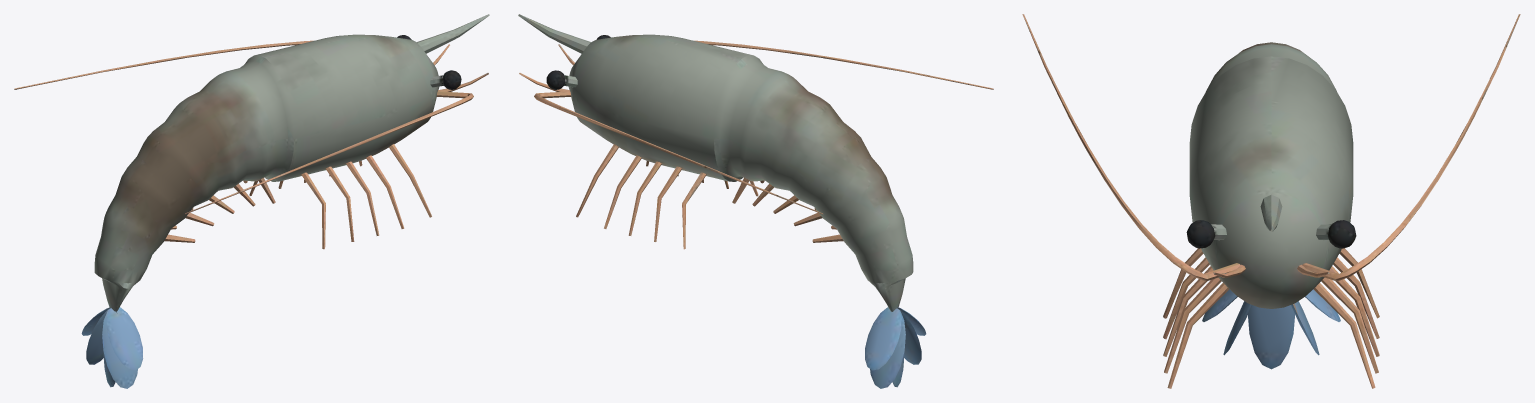
Rendered from shrimp.glb.
3 renders of one model, left to right at view 1: azimuth 30°, elevation 25°; view 2: azimuth 150°, elevation 25°; view 3: azimuth 270°, elevation 25°, orthographic. The views are drawn at different scales.
Visible parts, largest first — view 1: shrimp; view 2: shrimp; view 3: shrimp.
Boxes of the visible parts, x1,y1,x2,y2 form: shrimp: [14, 14, 489, 388]; shrimp: [518, 14, 993, 388]; shrimp: [1022, 14, 1520, 388].
Bounding box in the file's own units: 0.1 × 0.0707 × 0.0753.
1 material, 1 textured.
